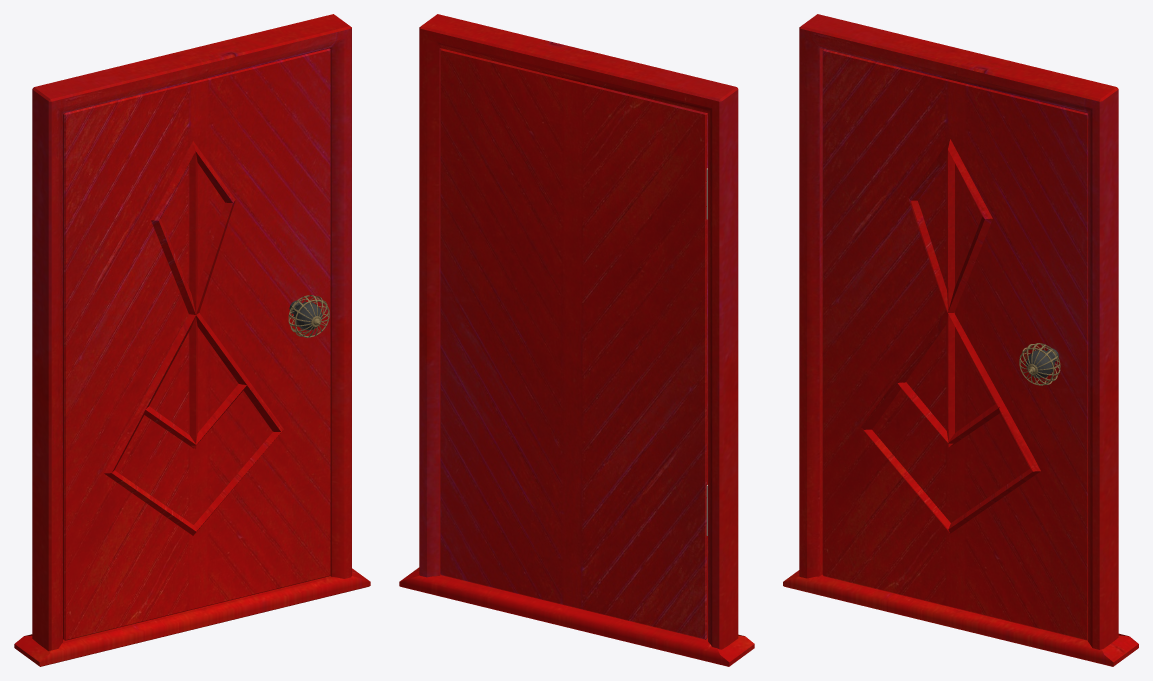
File: red_door.gltf
3 views of the same model, side by side, from view 1: azimuth 30°, elevation 25°; view 2: azimuth 150°, elevation 25°; view 3: azimuth 330°, elevation 25° (orthographic).
Visible parts, largest first — view 1: polySurface8235, door_frame, polySurface8232, Knob, polySurface8233; view 2: polySurface8235, door_frame; view 3: polySurface8235, door_frame, polySurface8232, Knob, polySurface8233.
Boxes of the visible parts, x1=… form: polySurface8235: x1=63, y1=48, x2=330, y2=640; door_frame: x1=14, y1=14, x2=370, y2=666; polySurface8232: x1=104, y1=141, x2=283, y2=535; Knob: x1=288, y1=295, x2=329, y2=337; polySurface8233: x1=144, y1=384, x2=247, y2=448; polySurface8235: x1=440, y1=48, x2=707, y2=639; door_frame: x1=399, y1=14, x2=754, y2=666; polySurface8235: x1=822, y1=49, x2=1087, y2=640; door_frame: x1=783, y1=14, x2=1138, y2=666; polySurface8232: x1=861, y1=139, x2=1040, y2=533; Knob: x1=1019, y1=343, x2=1060, y2=385; polySurface8233: x1=897, y1=382, x2=1000, y2=446.
Size of the model in its own units: 11.8 by 19.17 by 2.65.
3 materials, 1 textured.
